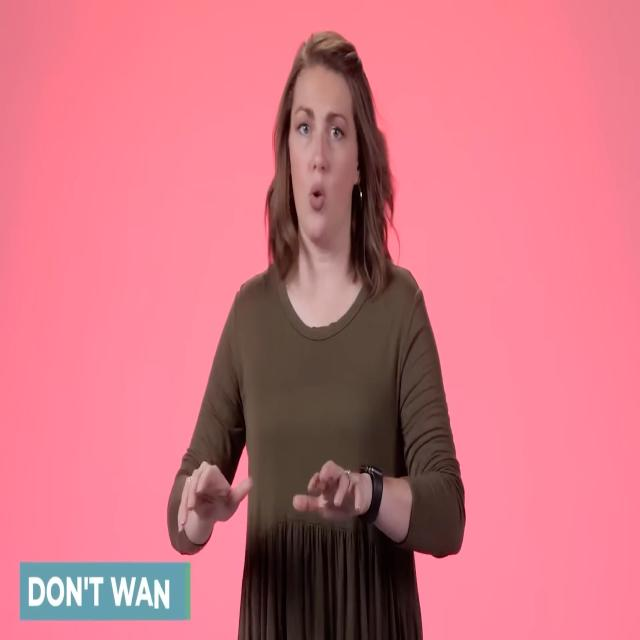don-t want: (165, 441, 414, 560)
